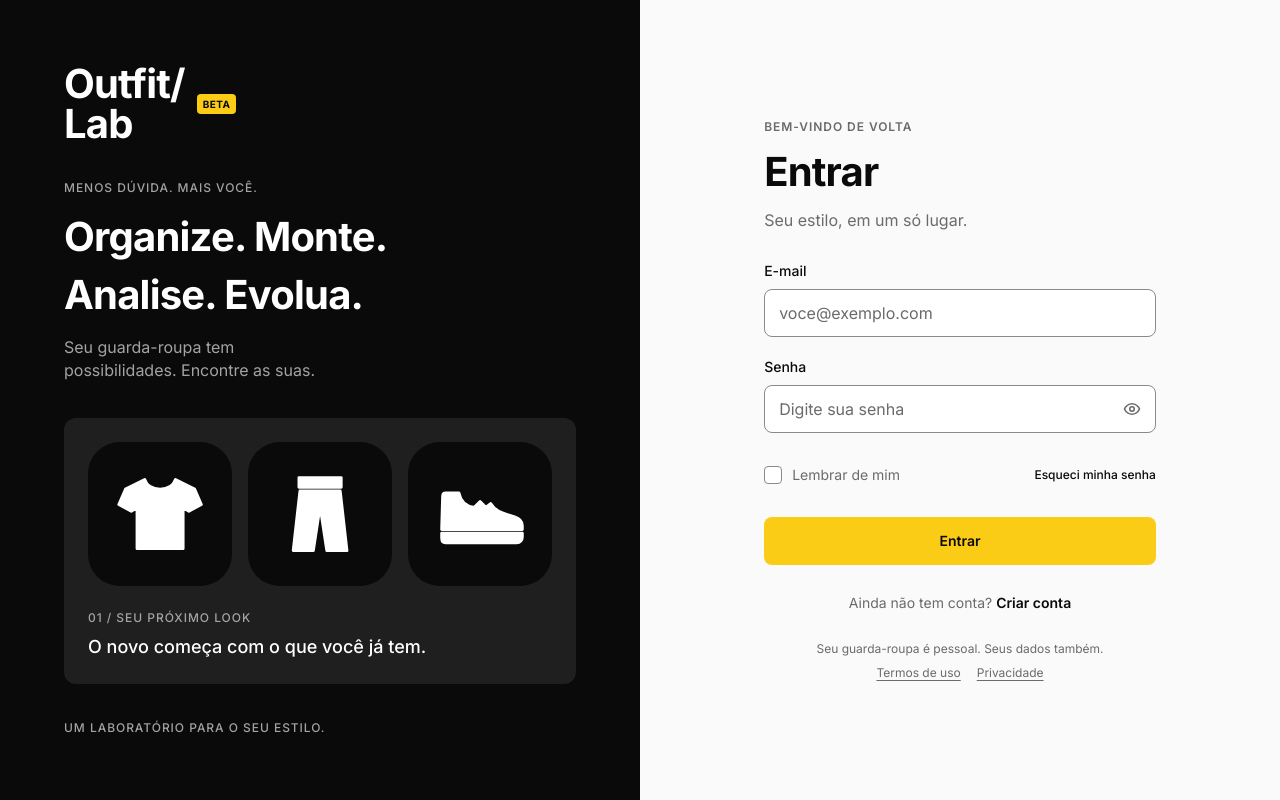
Scenario: TELA-01 Login › mostra e-mail inválido e revalida ao sair do campo depois do primeiro envio
Type "ana@" into the field labelled "E-mail".
click(960, 313); type("ana@")  # box [764,289,1156,337]
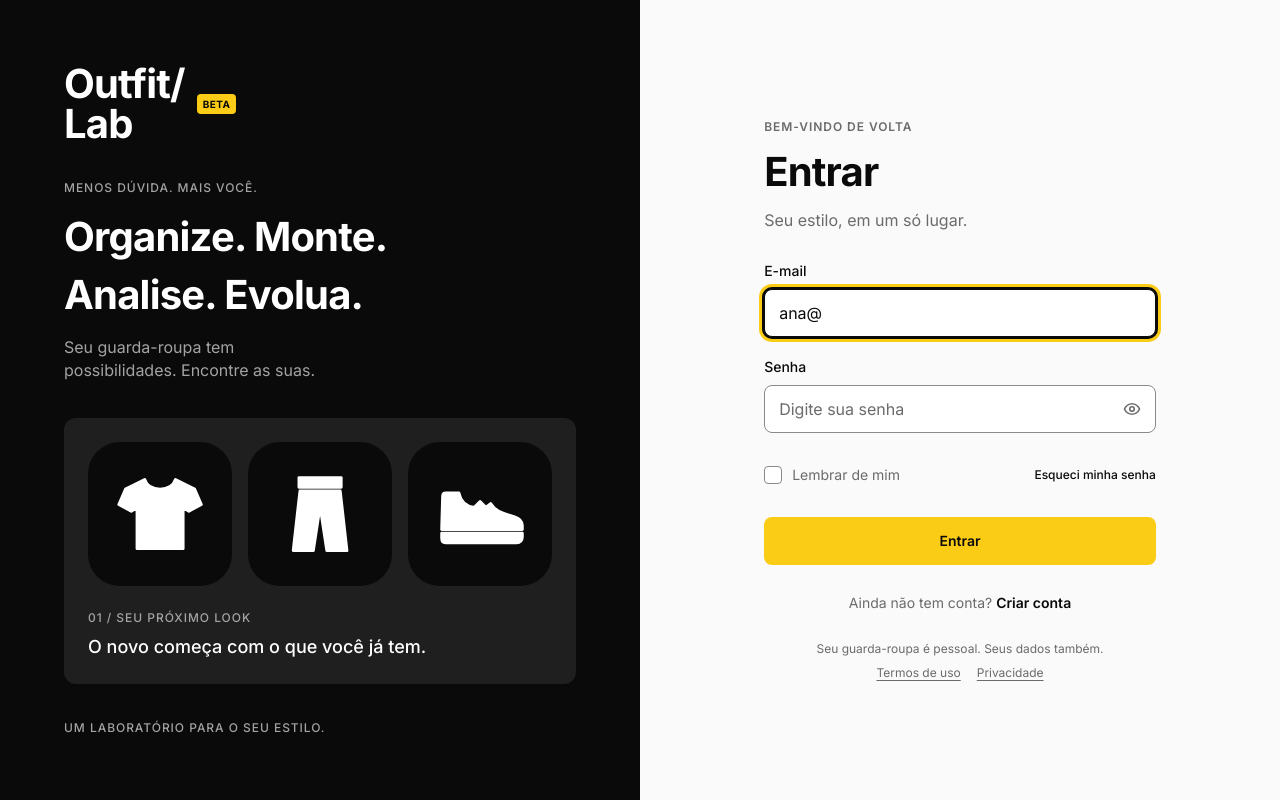
Click the button "Entrar".
click(960, 541)  # box [764,517,1156,565]
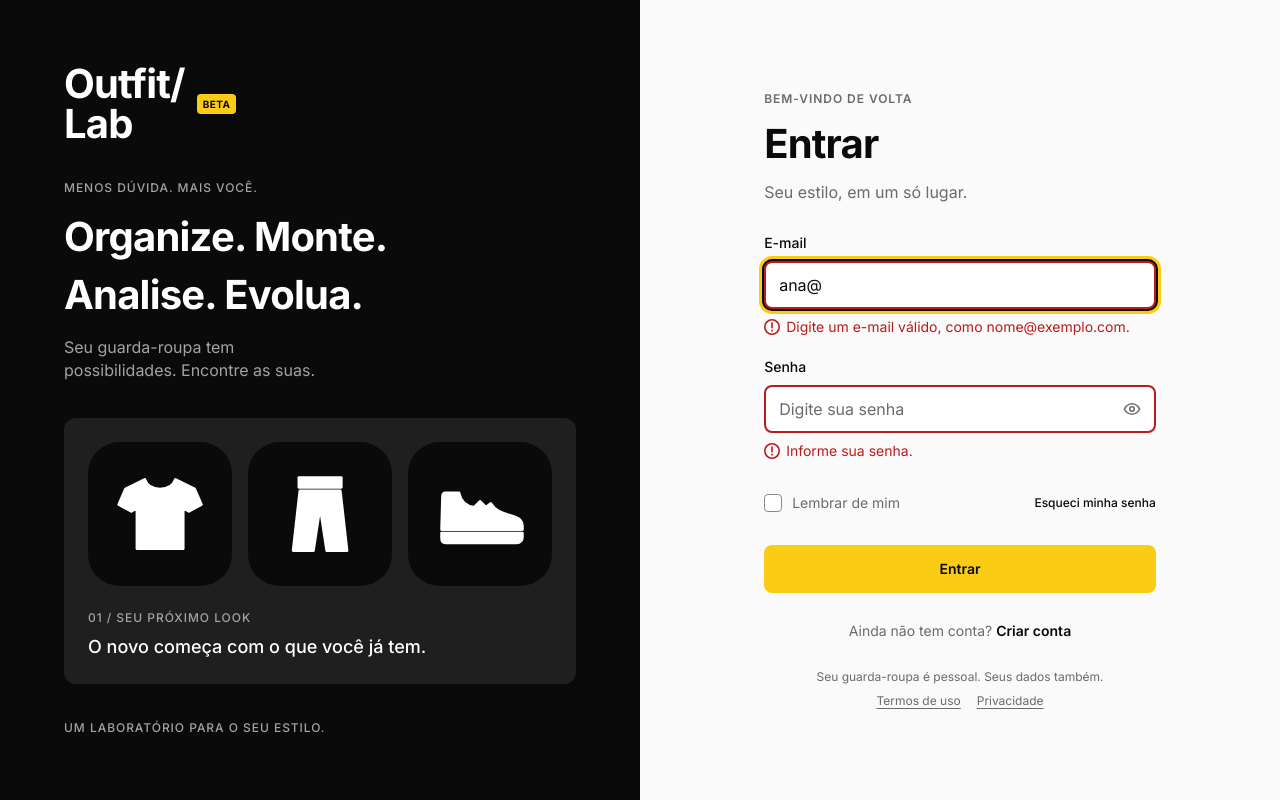
Now the text "Digite um e-mail válido, como nome@exemplo.com." is shown, box [786,317,1130,337]
Type "exemplo.com" into the field labelled "E-mail".
click(960, 285); type("exemplo.com")  # box [764,261,1156,309]
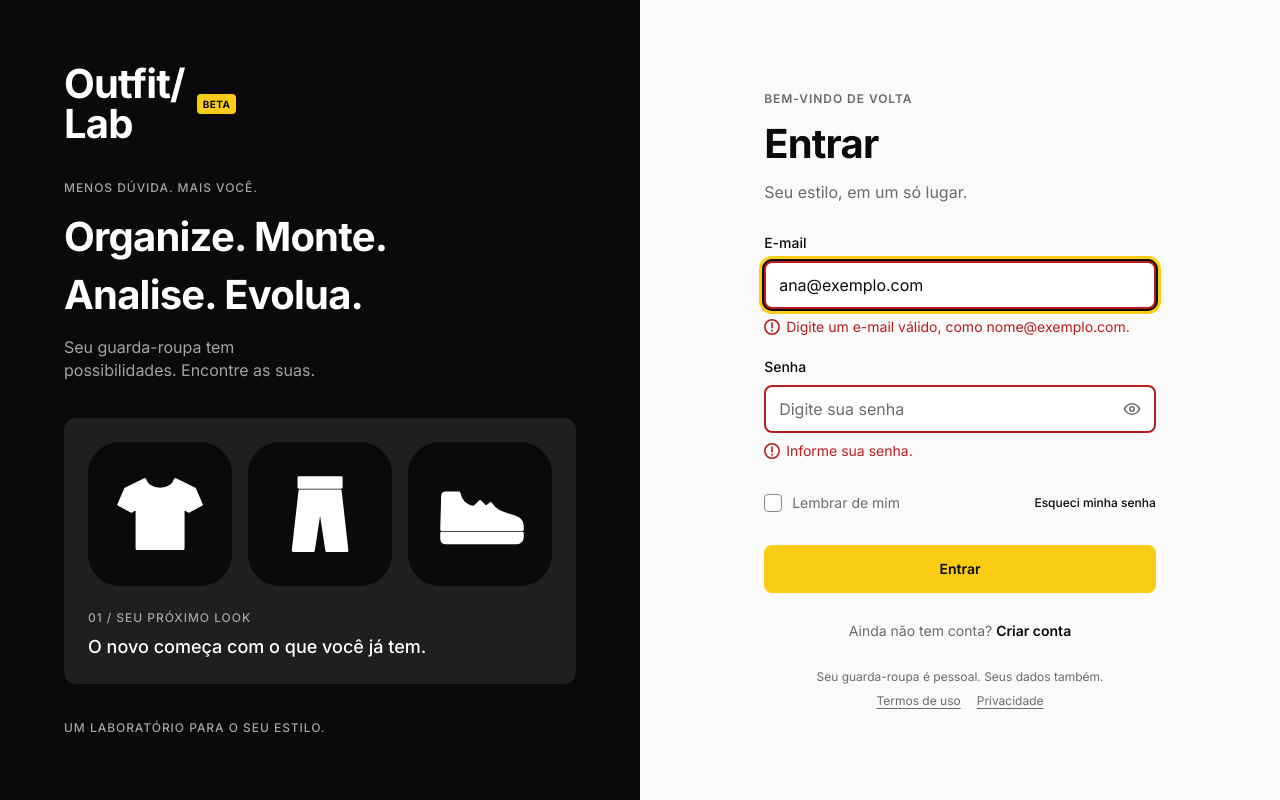
Press Tab
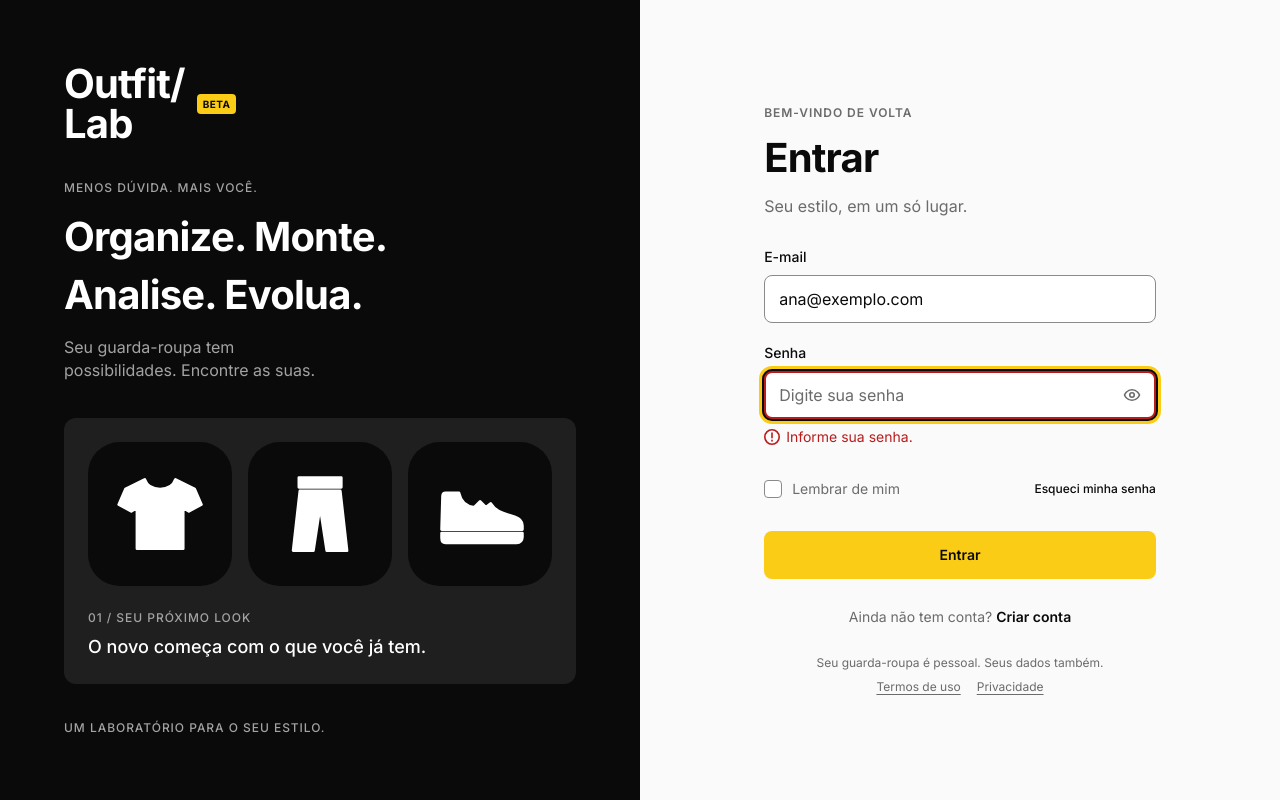
Now the text "Digite um e-mail válido, como nome@exemplo.com." is gone
